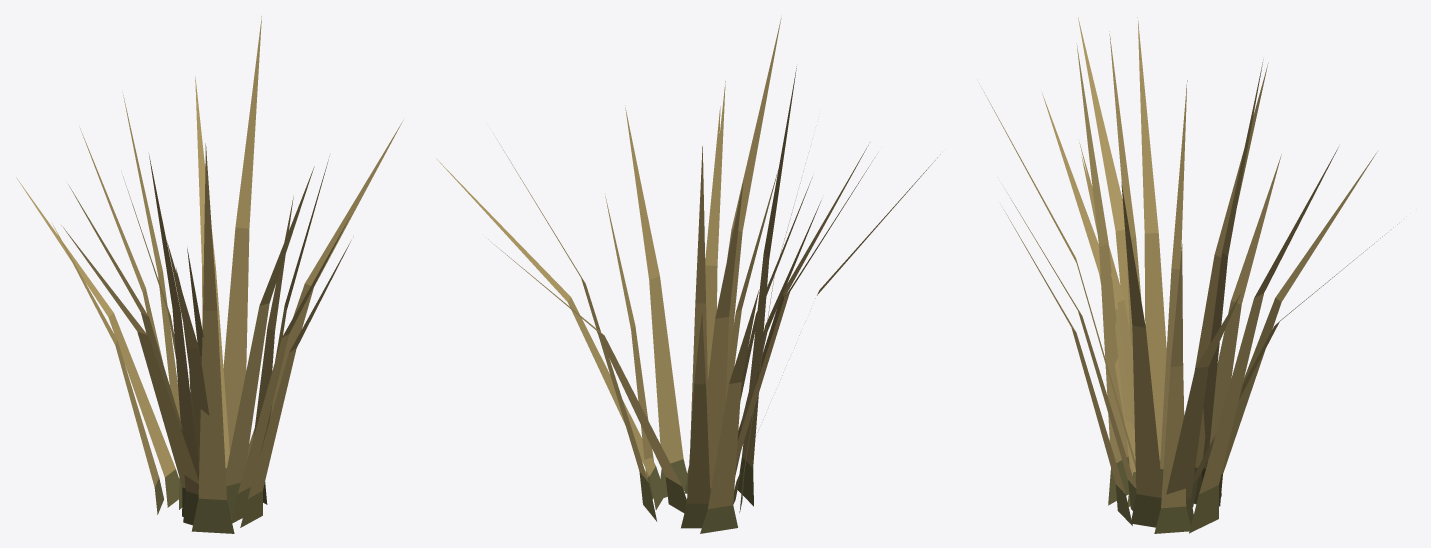
The model's file is pch_ichu_a.glb.
3 renders of one model, left to right at view 1: azimuth 30°, elevation 25°; view 2: azimuth 150°, elevation 25°; view 3: azimuth 270°, elevation 25°, orthographic. The views are drawn at different scales.
Parts seen in each view (by area): view 1: pch_ichu_a; view 2: pch_ichu_a; view 3: pch_ichu_a.
Boxes of the visible parts, left/top/right/bottom form: pch_ichu_a: left=16, top=16, right=403, bottom=533; pch_ichu_a: left=436, top=18, right=940, bottom=533; pch_ichu_a: left=979, top=17, right=1397, bottom=533.
Size of the model in its own units: 0.6675 by 0.6258 by 0.5666.
